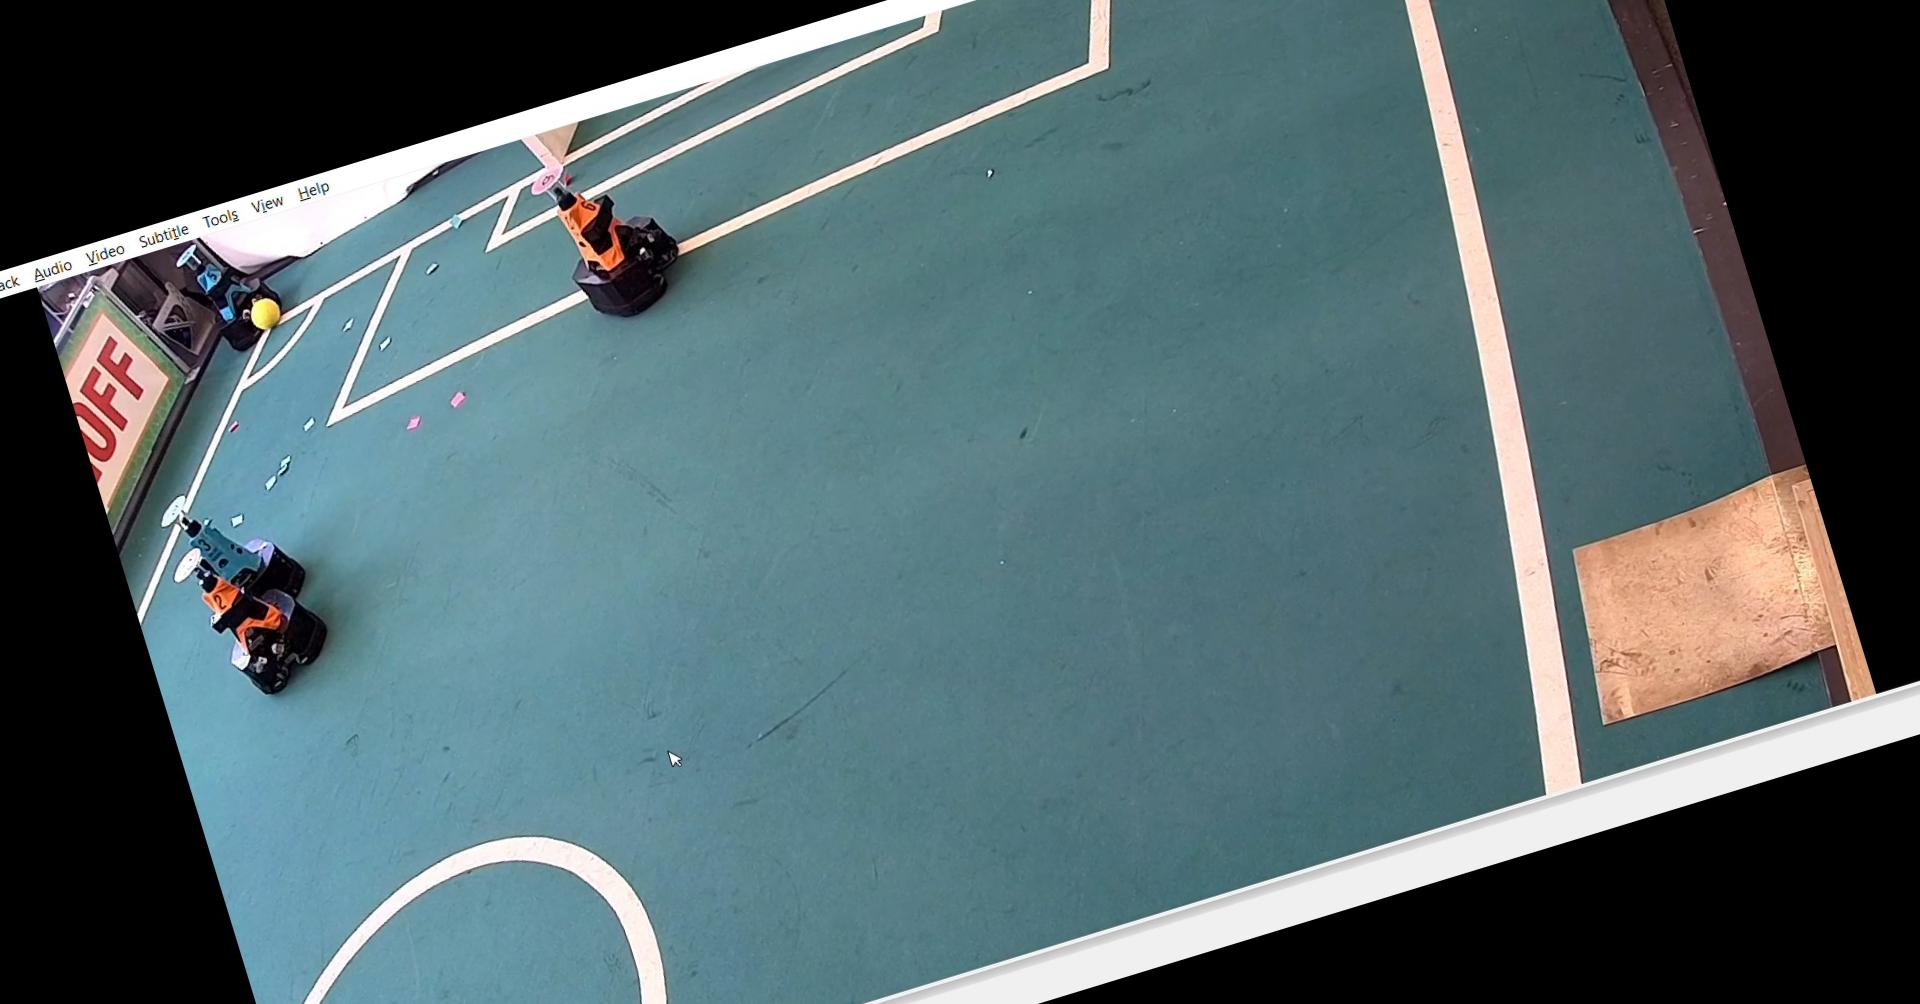Ball: (240, 291, 290, 336)
Team_Blue: (146, 462, 321, 650), (161, 220, 298, 366)
Team_Red: (163, 519, 349, 716), (523, 137, 701, 339)
